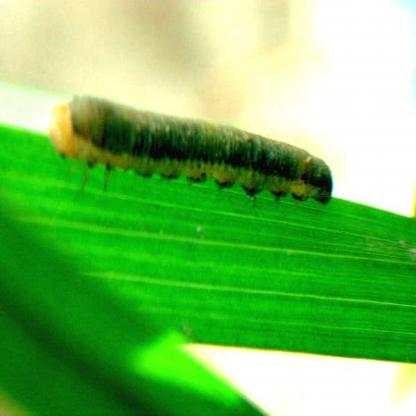sawfly: (44, 90, 337, 207)
